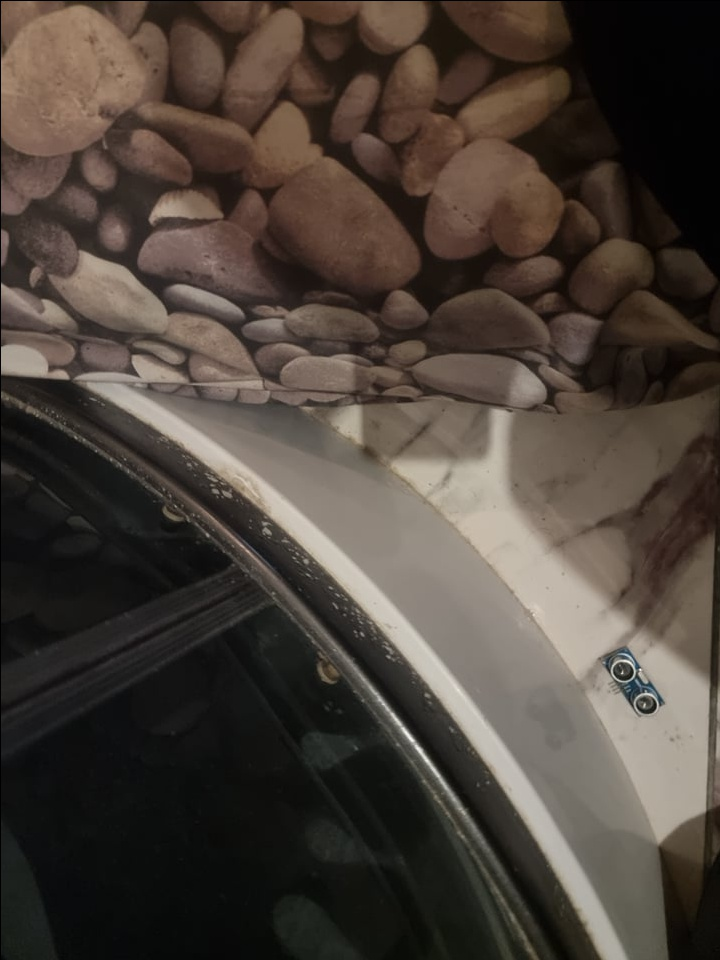SENSOR: (598, 646, 666, 718)
